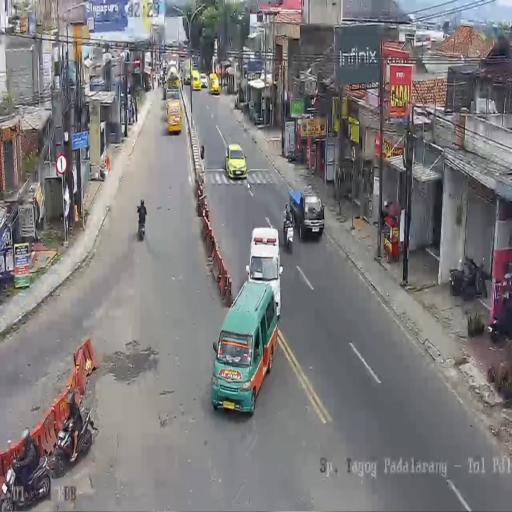3: (165, 65, 181, 97)
car: (210, 280, 277, 413), (288, 185, 324, 240), (225, 143, 247, 179), (167, 99, 182, 135), (209, 72, 220, 95), (190, 70, 201, 90), (200, 73, 208, 89), (184, 70, 190, 84)
truck: (0, 443, 50, 511), (52, 399, 97, 474), (450, 258, 488, 302), (489, 310, 506, 342), (282, 215, 294, 251), (137, 210, 146, 240), (159, 72, 166, 88)
